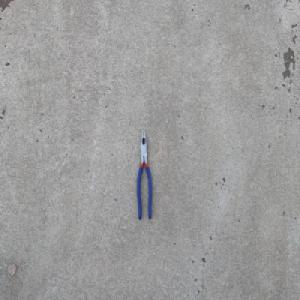Pliers: (136, 126, 152, 219)
